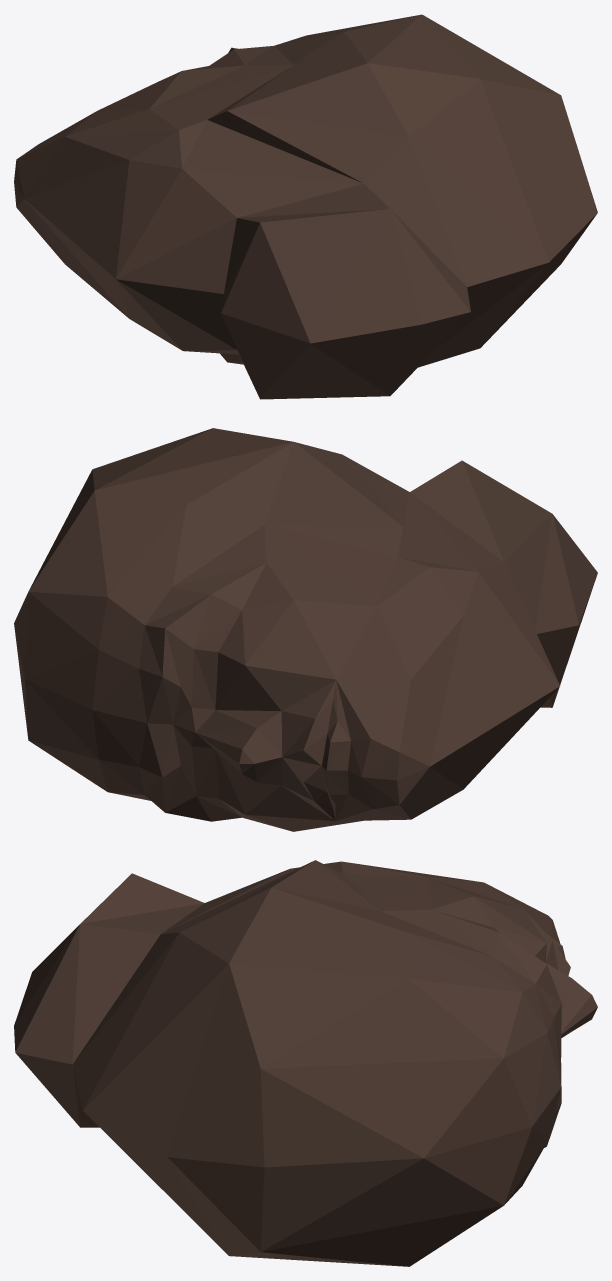
File: BAB_HEAD_HAIR1.OBJ
The picture shows the model from 3 angles, top to bottom: view 1: azimuth 30°, elevation 25°; view 2: azimuth 150°, elevation 25°; view 3: azimuth 270°, elevation 25°; orthographic projection. The views are drawn at different scales.
Parts seen in each view (by area): view 1: BAB_HEAD_HAIR1; view 2: BAB_HEAD_HAIR1; view 3: BAB_HEAD_HAIR1.
Part boxes in pixels (x1,y1,x2,y2): BAB_HEAD_HAIR1: [14, 14, 597, 399]; BAB_HEAD_HAIR1: [14, 428, 597, 831]; BAB_HEAD_HAIR1: [14, 860, 597, 1266].
Bounding box in the file's own units: 0.2473 × 0.1673 × 0.2561.
